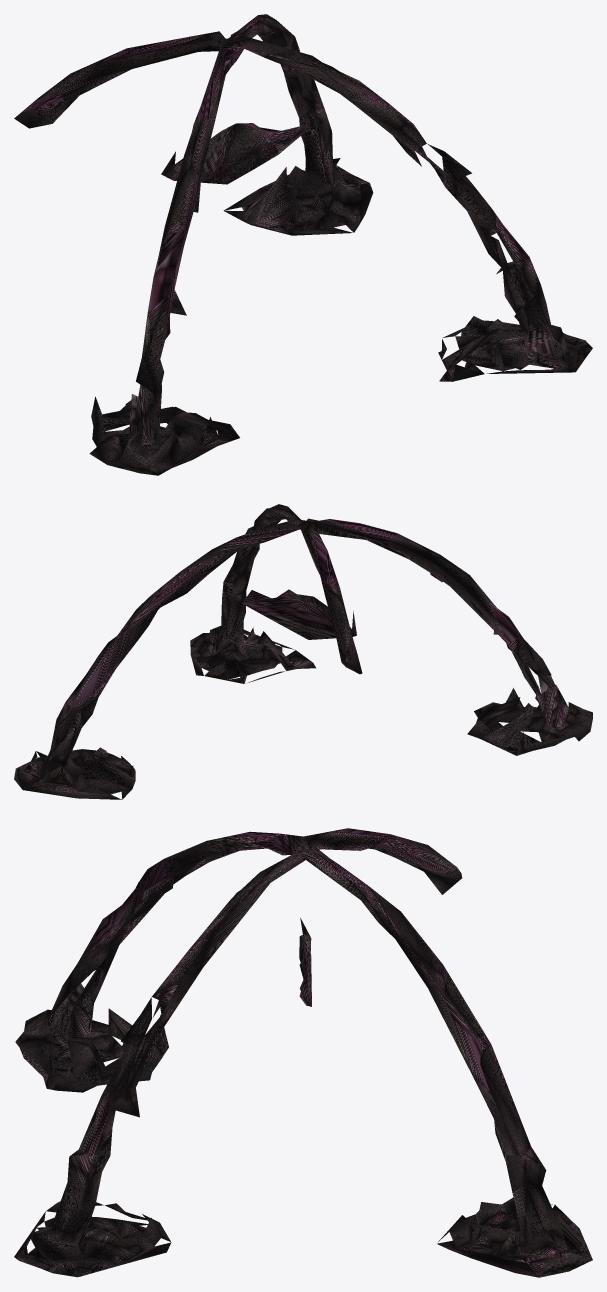
Rendered from vegas.glb.
3 views of the same model, one above another, from view 1: azimuth 30°, elevation 25°; view 2: azimuth 150°, elevation 25°; view 3: azimuth 270°, elevation 25° (orthographic). The views are drawn at different scales.
Visible parts, largest first — view 1: vegas; view 2: vegas; view 3: vegas.
Part boxes in pixels (x1=…): vegas: x1=14, y1=14, x2=592, y2=475; vegas: x1=14, y1=504, x2=592, y2=799; vegas: x1=14, y1=828, x2=592, y2=1277.
Bounding box in the file's own units: 34.97 × 19.8 × 33.58.
1 material, 1 textured.
